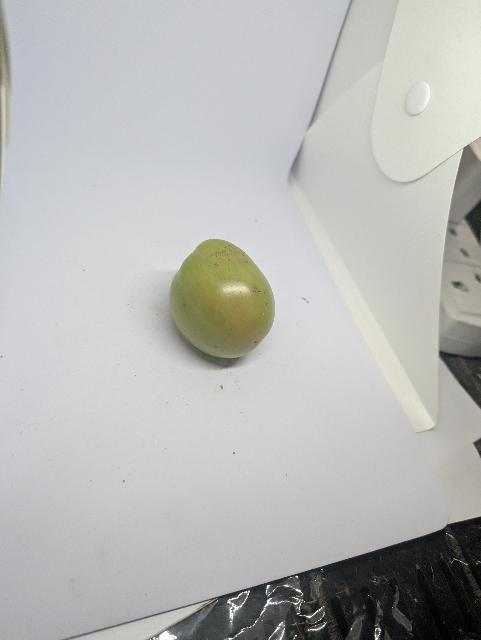green: (165, 236, 278, 360)
